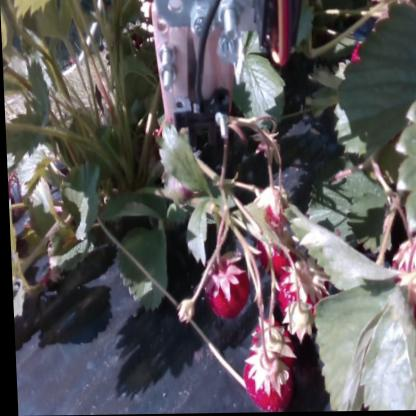ripe: (277, 266, 328, 322), (204, 261, 250, 319), (242, 354, 285, 411), (251, 230, 295, 273), (248, 322, 289, 365), (385, 231, 416, 283), (257, 188, 284, 228)
